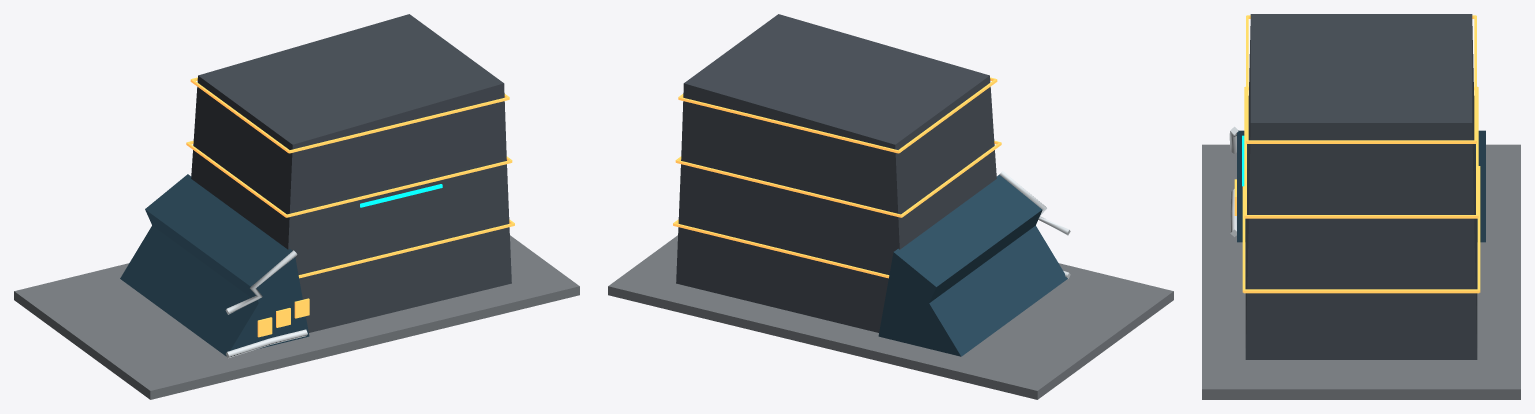
File: Model_ Stage 03 .glb
The picture shows the model from 3 angles, left to right: view 1: azimuth 30°, elevation 25°; view 2: azimuth 150°, elevation 25°; view 3: azimuth 270°, elevation 25°; orthographic projection. The views are drawn at different scales.
Parts seen in each view (by area): view 1: LowSailShell, SailFoundation.002, SweepingPodiumGlass, LowSailWindowBands, PodiumWhiteRibbon, PodiumWindows; view 2: LowSailShell, SailFoundation.002, SweepingPodiumGlass, LowSailWindowBands, PodiumWhiteRibbon; view 3: LowSailShell, SailFoundation.002, LowSailWindowBands, SweepingPodiumGlass, PodiumWhiteRibbon.
Part boxes in pixels (x1,y1,x2,y2): LowSailShell: (191,14,511,332); SailFoundation.002: (14,235,579,399); SweepingPodiumGlass: (120,174,309,356); LowSailWindowBands: (186,77,514,278); PodiumWhiteRibbon: (225,250,307,358); PodiumWindows: (257,298,309,337); LowSailShell: (676,14,996,332); SailFoundation.002: (608,235,1173,399); SweepingPodiumGlass: (878,174,1067,356); LowSailWindowBands: (673,77,1001,278); PodiumWhiteRibbon: (999,171,1070,278); LowSailShell: (1245,14,1477,359); SailFoundation.002: (1202,144,1520,399); LowSailWindowBands: (1242,15,1480,293); SweepingPodiumGlass: (1237,130,1485,242); PodiumWhiteRibbon: (1229,126,1238,236).
Bounding box in the file's own units: 20 × 9.35 × 11.
